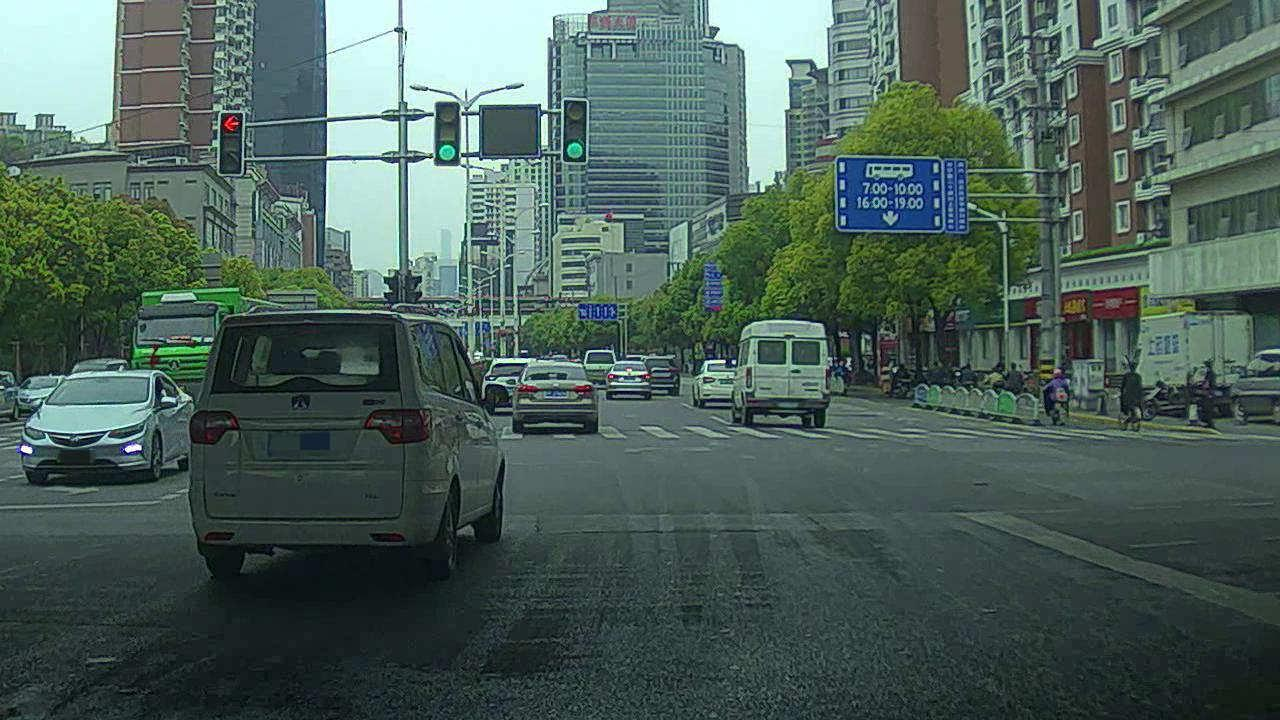traffic_light: (434, 98, 463, 168), (216, 108, 245, 176), (563, 98, 586, 162)
